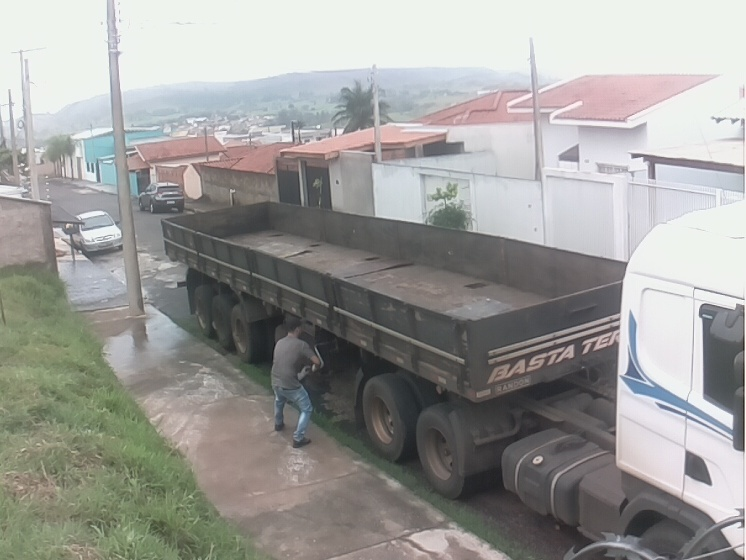person: (269, 316, 324, 449)
